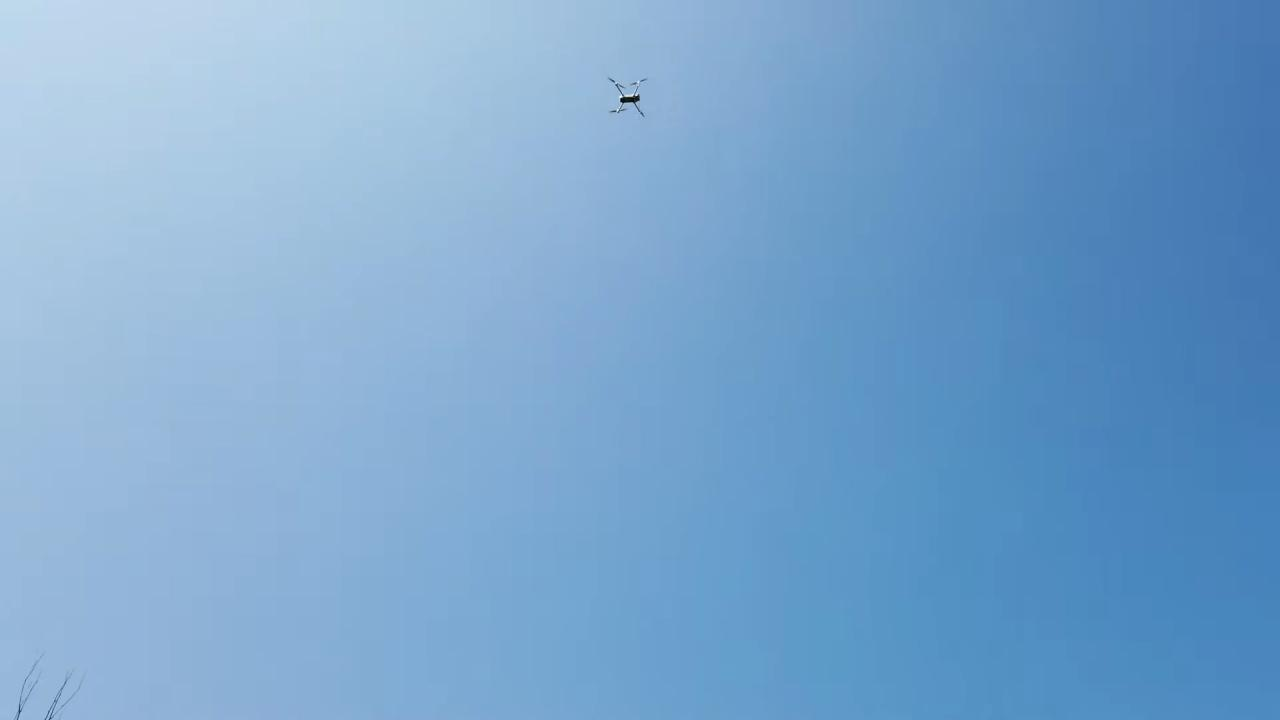Drone: (600, 69, 656, 126)
